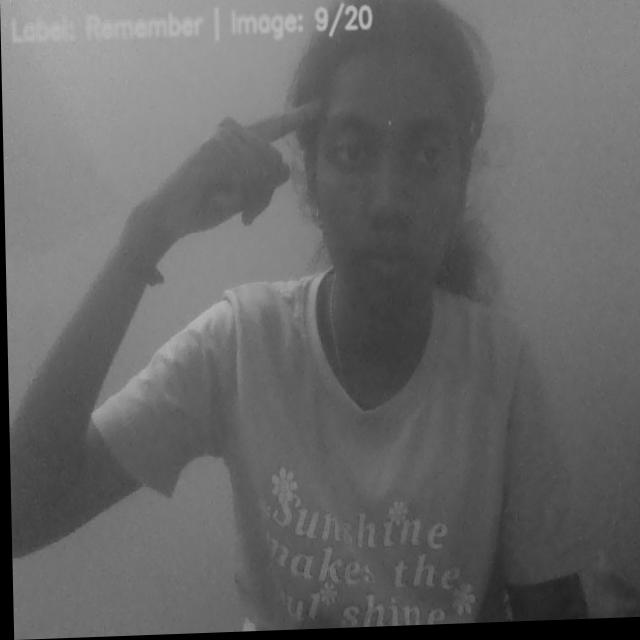Remember: (123, 98, 329, 252)
